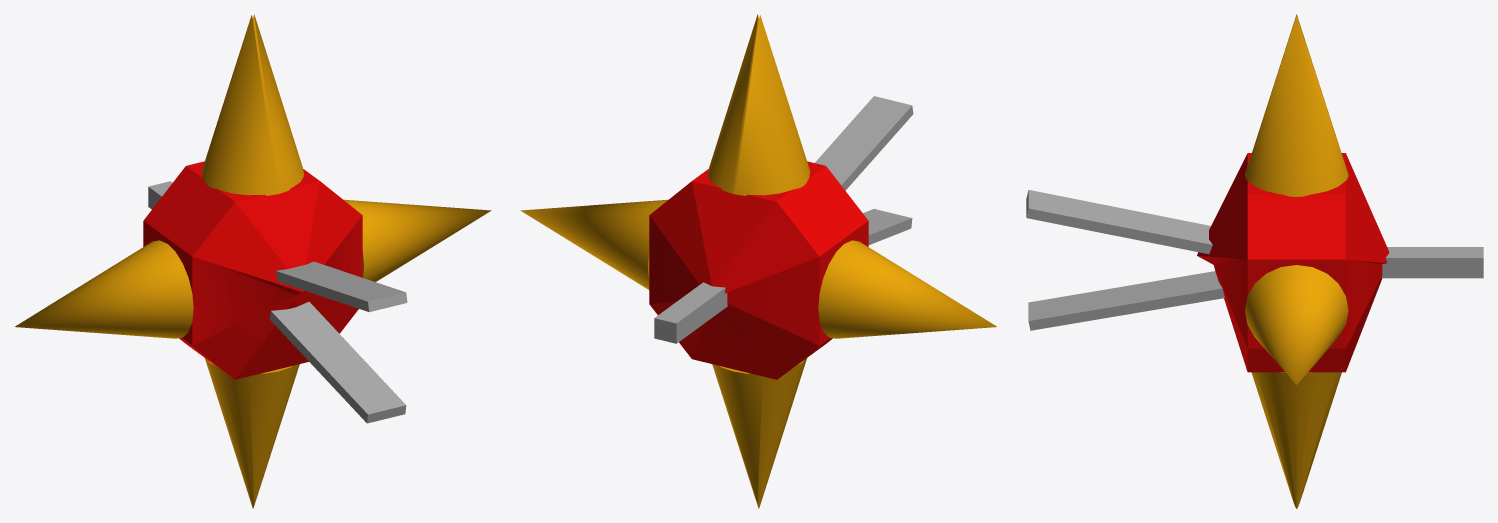
Rendered from Fighter.fbx.
3 views of the same model, side by side, from view 1: azimuth 30°, elevation 25°; view 2: azimuth 150°, elevation 25°; view 3: azimuth 270°, elevation 25° (orthographic).
Parts seen in each view (by area): view 1: polySurface1; view 2: polySurface1; view 3: polySurface1.
Part boxes in pixels (x1,y1,x2,y2): polySurface1: (15, 14, 491, 508); polySurface1: (520, 14, 996, 508); polySurface1: (1026, 14, 1483, 508).
Size of the model in its own units: 2.81 by 2.78 by 2.33.
